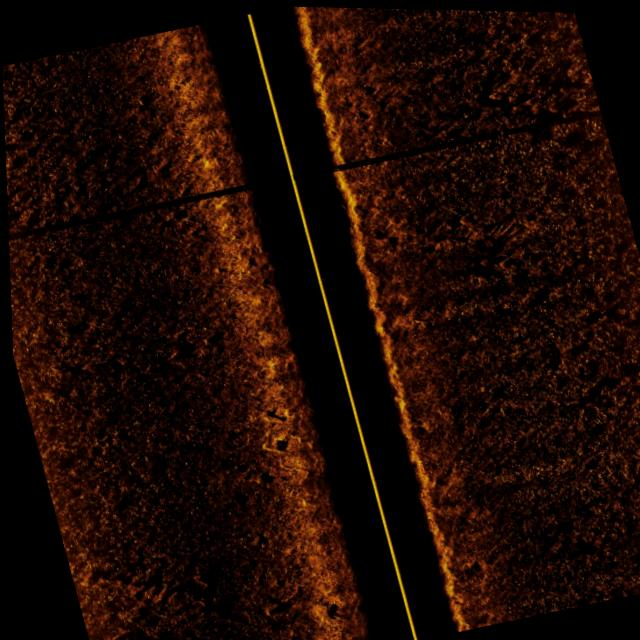mine: (255, 430, 297, 458)
